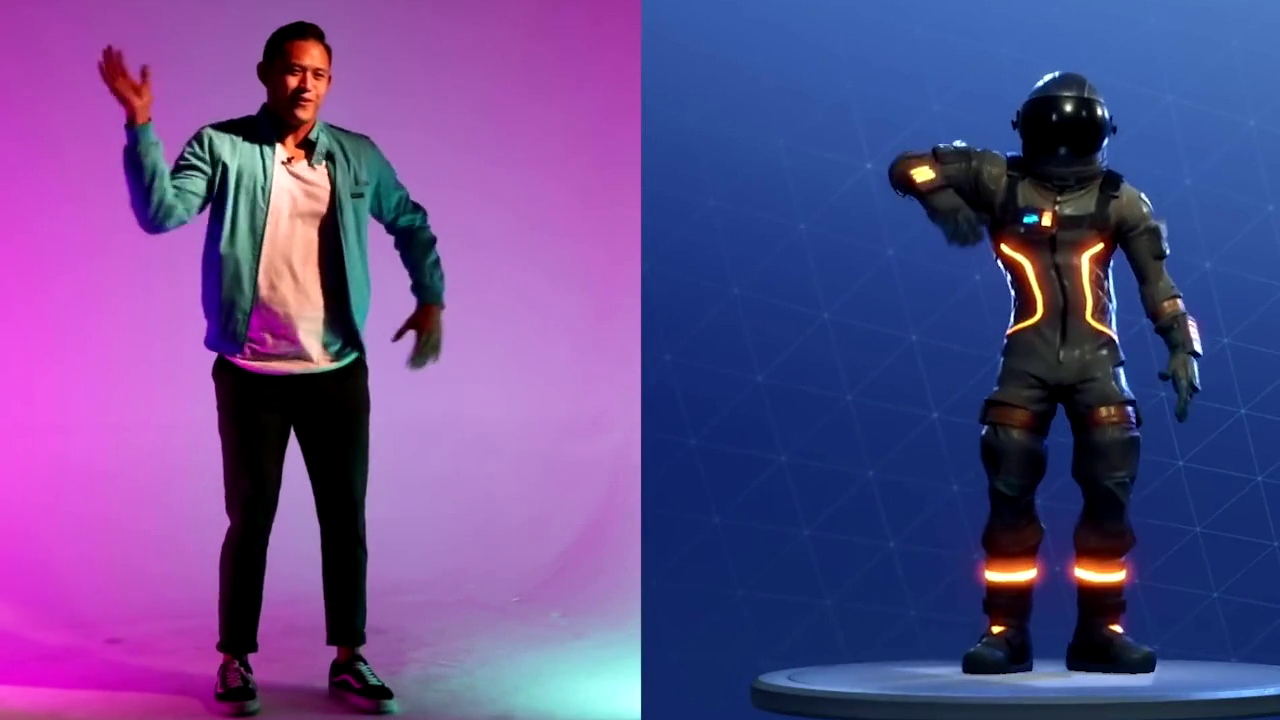Head: (250, 12, 340, 141)
Hip: (181, 329, 400, 432)
LeftAnkle: (307, 614, 412, 718)
LeftElbow: (386, 190, 458, 255)
LeftKnee: (294, 470, 382, 558)
LeftShoulder: (330, 115, 409, 184)
LeftWrist: (395, 288, 462, 378)
RightAnkle: (202, 614, 275, 717)
RightElbow: (115, 164, 202, 246)
RightKnee: (199, 478, 285, 553)
RightShoulder: (184, 110, 268, 172)
RightWrist: (74, 26, 168, 119)
Torso: (206, 124, 380, 355)
